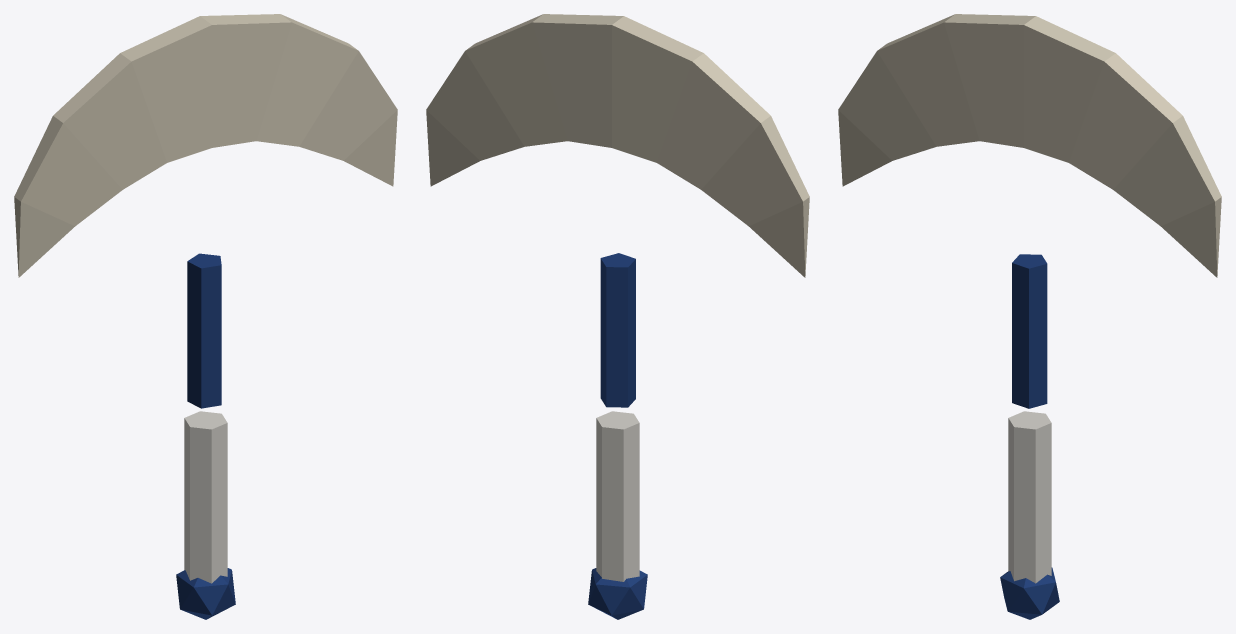
File: weapon_greatsword.glb
The picture shows the model from 3 angles, left to right: view 1: azimuth 30°, elevation 25°; view 2: azimuth 150°, elevation 25°; view 3: azimuth 330°, elevation 25°; orthographic projection.
Visible parts, largest first — view 1: owl_weapon_greatsword; view 2: owl_weapon_greatsword; view 3: owl_weapon_greatsword.
Part boxes in pixels (x1,y1,x2,y2): owl_weapon_greatsword: (14,14,397,619); owl_weapon_greatsword: (426,14,809,619); owl_weapon_greatsword: (838,14,1221,619).
Size of the model in its own units: 0.4896 by 0.7442 by 0.0643.
